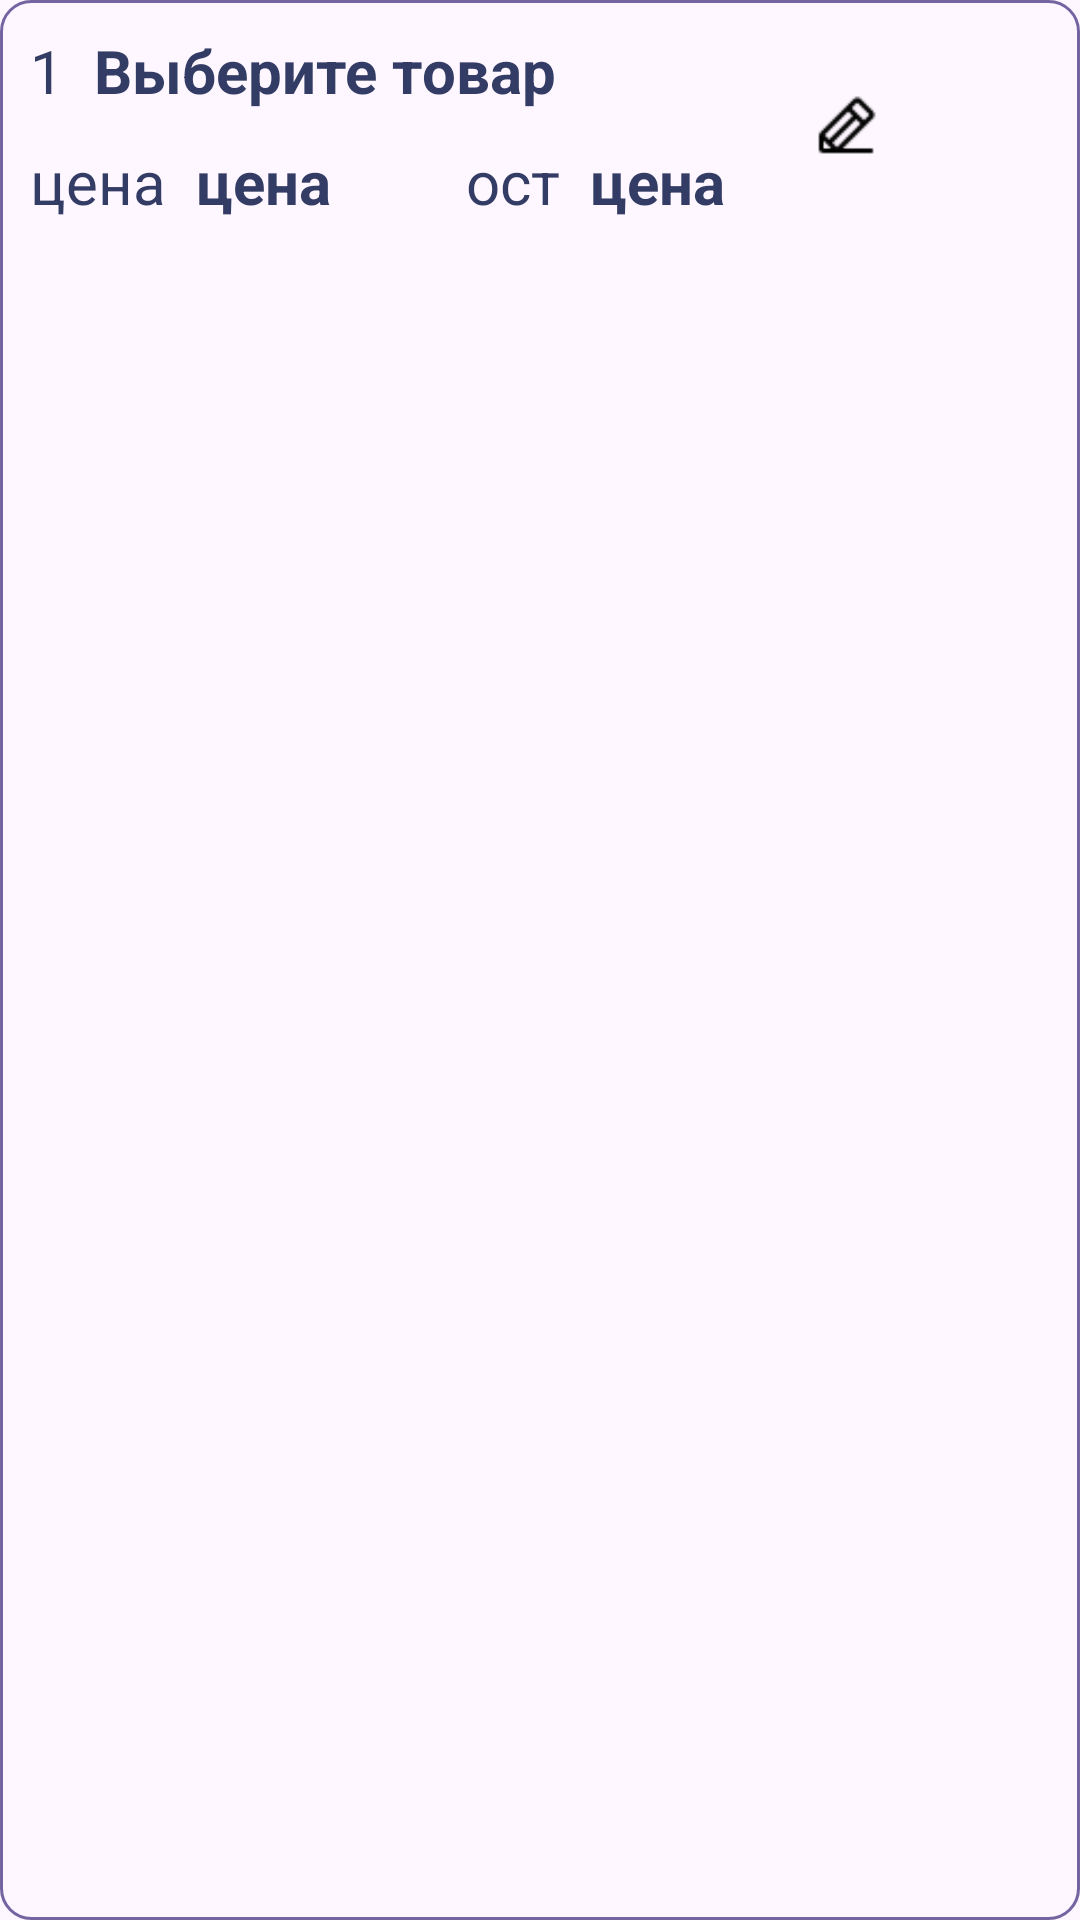

Icons on this 1080 x 1920 Android screen, each with its box as (x1, y1, x2, y2):
edit: (818, 96, 876, 154)
